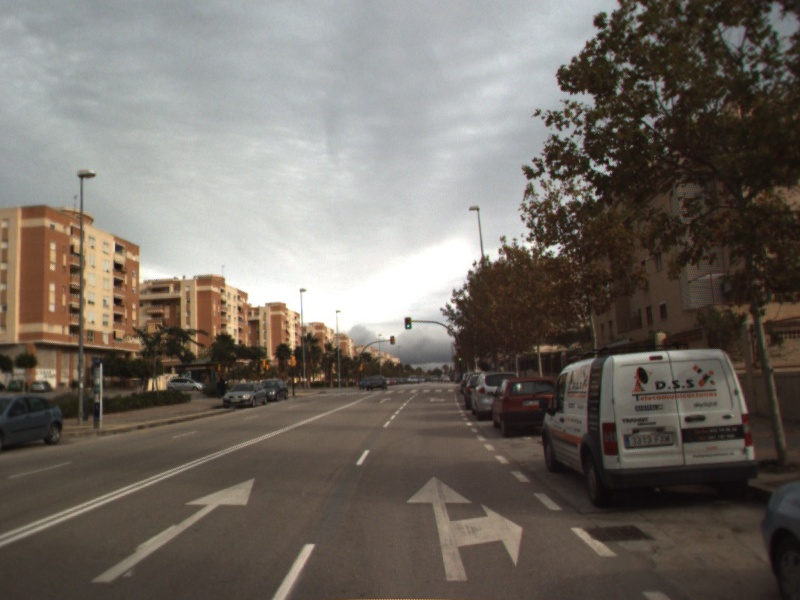STRAIGHT: (89, 475, 257, 585)
STRAIGHT_RIGHT: (404, 474, 525, 583)
